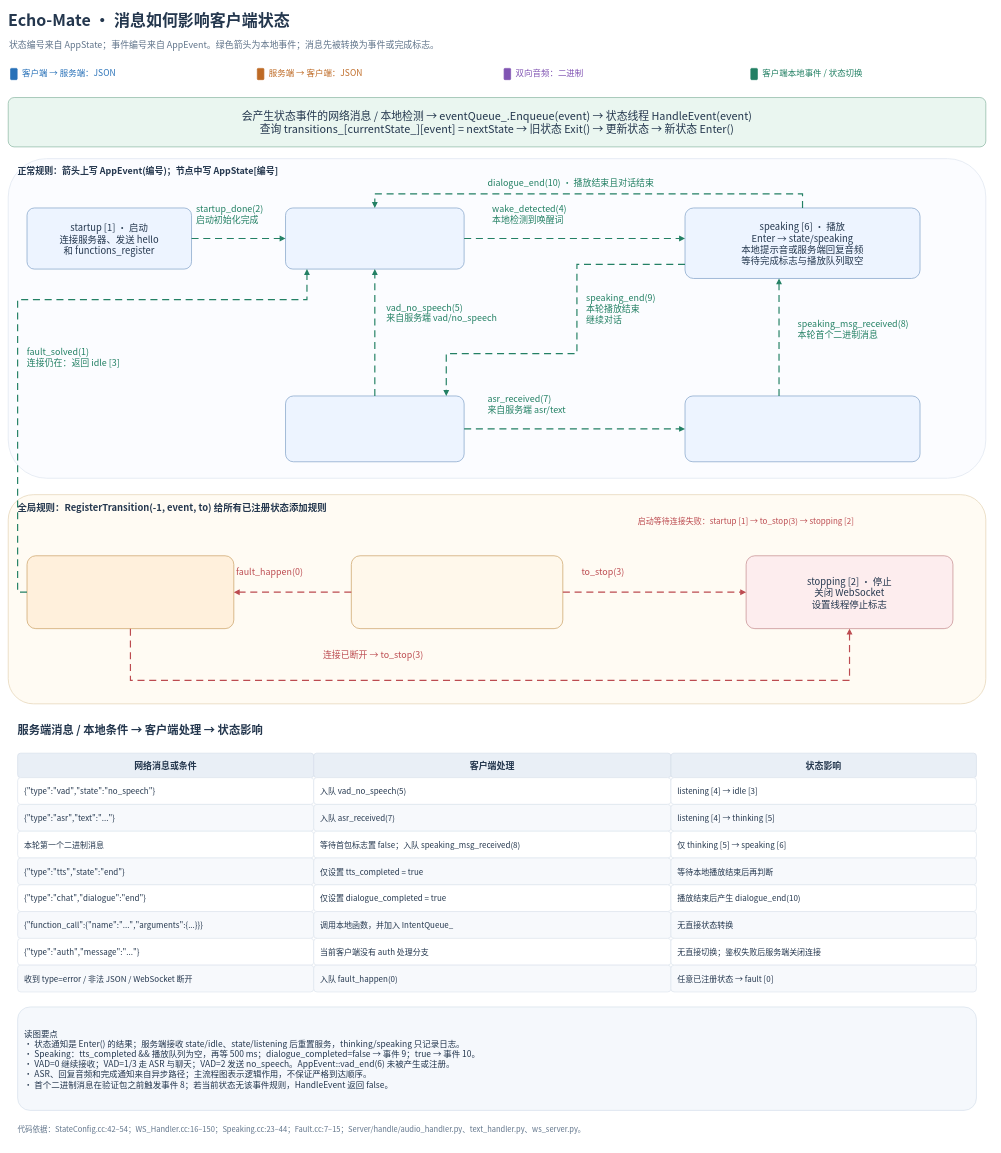
Some shapes in this 1001 by 1153 pixel diagram are drawn without their labels. The centre of each missing label's shape, as x and y in pixels:
fault [0] · 检查连接 连接仍在 → fault_solved(1) 连接已断开 → to_stop(3): point 130,592
idle [3] · 等待唤醒 Enter → state/idle 本地录音与 Snowboy 检测: point 374,238
listening [4] · 收音上传 Enter → state/listening 持续发送 Opus 二进制音频: point 374,428
thinking [5] · 等待回复 Enter → state/thinking 等待本轮第一个二进制消息: point 802,428
任意已注册状态 from = -1 是注册规则的写法 不是一个 AppState: point 457,592
